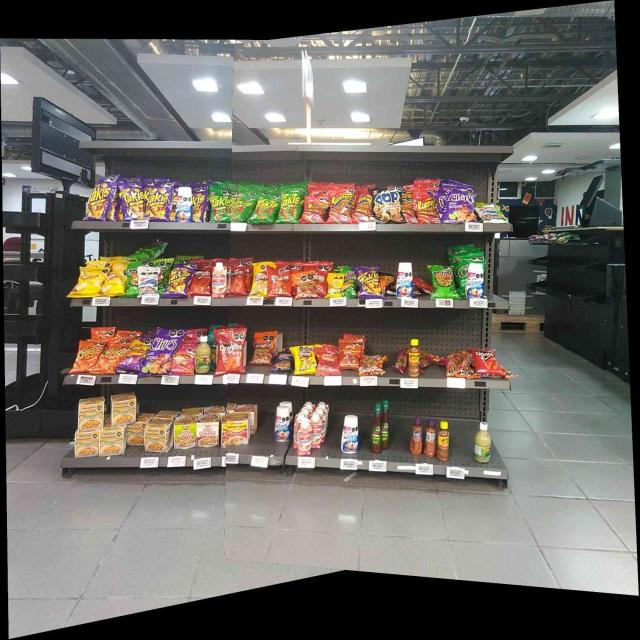bitzEnchilado90: (316, 348, 338, 376), (342, 340, 359, 370)
bitzHabanero: (396, 348, 407, 374)
bokadosCacahuates: (275, 350, 291, 374)
botaneraChilito: (438, 421, 448, 462), (410, 339, 419, 377)
cheetosFlaminHot: (126, 340, 146, 372)
cheetosOriginal: (76, 340, 98, 373), (101, 342, 119, 374)
chipsFuego: (444, 185, 476, 224), (148, 332, 172, 374)
churrumais: (174, 347, 193, 375)
delPrimoSalsa: (474, 422, 491, 463), (195, 336, 210, 372)
doritosNacho: (217, 330, 244, 373), (474, 348, 499, 374), (229, 259, 247, 295), (195, 263, 210, 296)
fritosLimon: (294, 347, 315, 373), (251, 263, 267, 296)
leoCacahuates: (137, 266, 157, 294), (477, 205, 503, 224)
leoMix: (253, 332, 272, 366), (362, 355, 386, 376)
maruchanPollo: (79, 398, 104, 430), (109, 394, 135, 423), (146, 426, 170, 452), (102, 431, 125, 456), (76, 434, 99, 456)
maruchanRes: (222, 413, 248, 444)
nestleCarnation: (212, 262, 227, 298), (298, 421, 311, 456), (312, 416, 321, 450)
nestleLechera: (341, 416, 358, 453), (176, 187, 192, 222), (468, 264, 484, 299), (275, 408, 291, 442), (398, 264, 412, 298)
nissinCamaron: (175, 417, 196, 448)
nissinRes: (197, 417, 218, 447)
popKarameladas: (372, 189, 401, 222)
rancheritos: (269, 267, 292, 298), (316, 263, 326, 295)
rufflesQueso: (342, 267, 356, 299)
runners: (412, 189, 436, 224), (330, 190, 352, 222), (306, 195, 326, 224), (354, 190, 371, 223)
sabritasOriginal: (78, 268, 101, 298), (105, 266, 125, 298)
salsaBufalo: (371, 404, 382, 452), (383, 400, 390, 449)
semillasCalabaza: (328, 274, 341, 298)
tajinDulce: (411, 418, 422, 454), (425, 420, 434, 456)
takisFuego: (119, 183, 143, 220), (88, 183, 110, 220), (148, 185, 169, 221), (169, 264, 189, 296), (358, 267, 379, 297), (195, 187, 207, 222)
takisOriginal: (209, 188, 231, 222), (254, 194, 277, 224), (232, 189, 250, 223), (282, 193, 298, 223)
tostitos: (432, 265, 456, 300), (127, 263, 135, 296)
